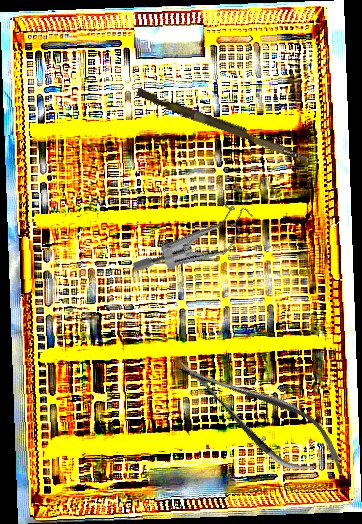Micro Scissor: (162, 336, 359, 496)
Pusher: (134, 87, 318, 166)
Speculum: (130, 159, 265, 308)
